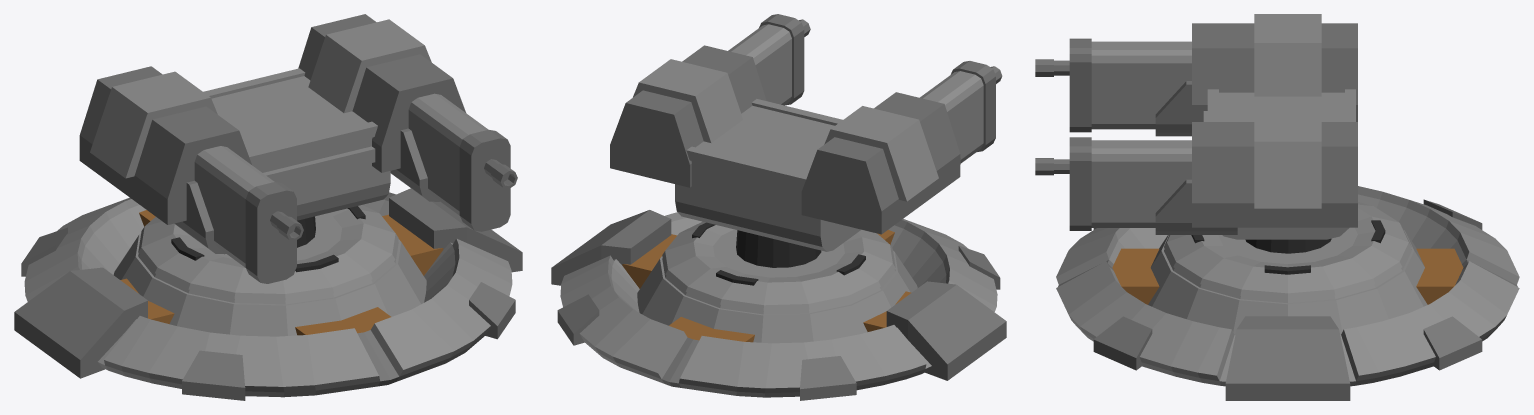
File: Turret_GunDouble.glb
3 views of the same model, side by side, from view 1: azimuth 30°, elevation 25°; view 2: azimuth 150°, elevation 25°; view 3: azimuth 270°, elevation 25° (orthographic). The views are drawn at different scales.
Visible parts, largest first — view 1: Turret_GunDouble_Base, Turret_GunDouble_Top; view 2: Turret_GunDouble_Base, Turret_GunDouble_Top; view 3: Turret_GunDouble_Base, Turret_GunDouble_Top.
Part boxes in pixels (x1,y1,x2,y2): Turret_GunDouble_Base: (14, 188, 522, 400); Turret_GunDouble_Top: (79, 14, 517, 283); Turret_GunDouble_Base: (551, 210, 1006, 400); Turret_GunDouble_Top: (610, 14, 1002, 267); Turret_GunDouble_Base: (1056, 186, 1519, 400); Turret_GunDouble_Top: (1035, 14, 1357, 253).
Bounding box in the file's own units: 1.16 × 0.587 × 1.16.
